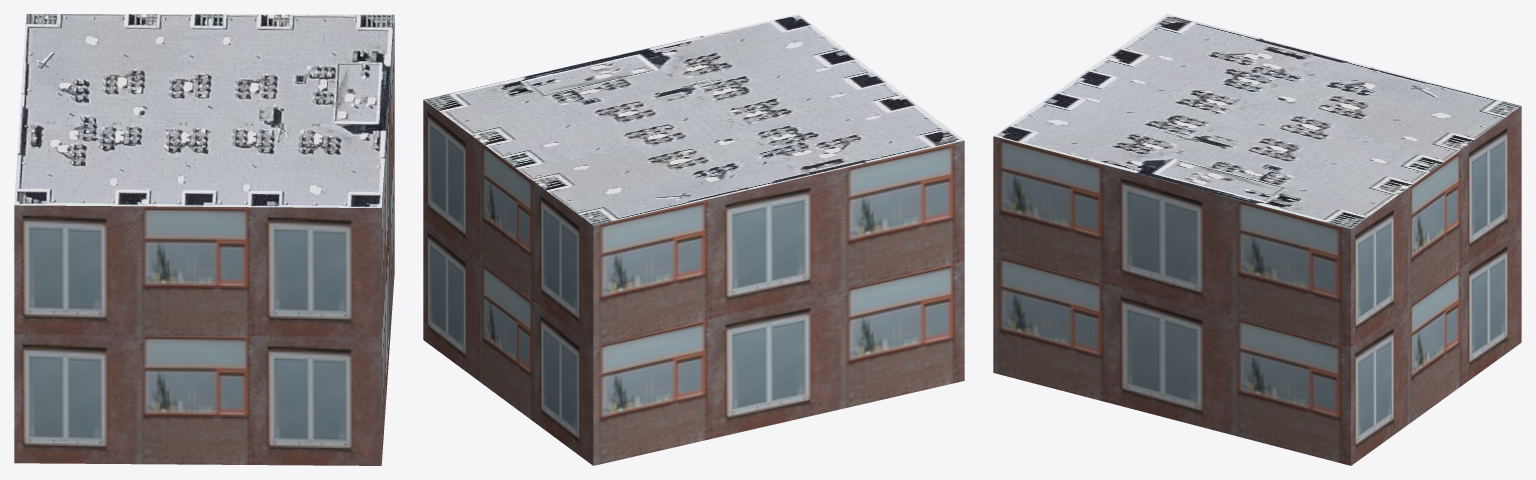
Rendered from ResTex__4555.fbx.
3 renders of one model, left to right at view 1: azimuth 30°, elevation 25°; view 2: azimuth 150°, elevation 25°; view 3: azimuth 270°, elevation 25°, orthographic. The views are drawn at different scales.
Visible parts, largest first — view 1: CityEngineMaterial_19_m, CityEngineMaterial_4_m; view 2: CityEngineMaterial_19_m, CityEngineMaterial_4_m; view 3: CityEngineMaterial_19_m, CityEngineMaterial_4_m.
Part boxes in pixels (box(x1,y1,x2,y2)): CityEngineMaterial_19_m: box(14, 18, 394, 465); CityEngineMaterial_4_m: box(14, 14, 394, 207); CityEngineMaterial_19_m: box(423, 100, 964, 465); CityEngineMaterial_4_m: box(424, 14, 964, 225); CityEngineMaterial_19_m: box(993, 106, 1521, 465); CityEngineMaterial_4_m: box(993, 14, 1520, 228).
Bounding box in the file's own units: 11.7 × 6 × 12.14.
2 materials, 2 textured.
